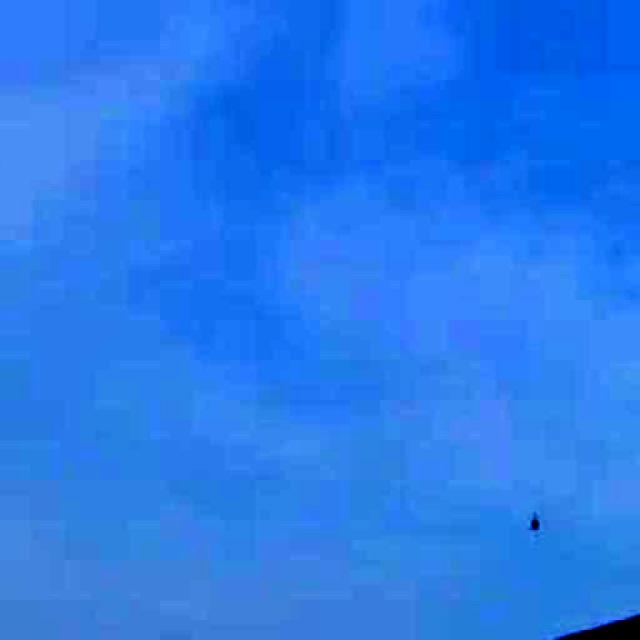drone: (515, 492, 555, 545)
